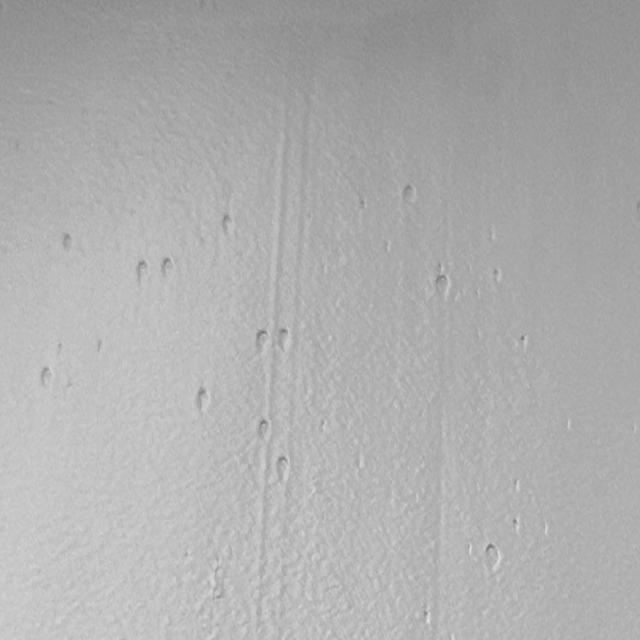pin holes: (482, 543, 504, 574), (192, 387, 213, 416), (275, 326, 296, 354), (35, 365, 55, 393), (400, 184, 421, 209), (432, 272, 452, 298), (158, 255, 178, 281), (217, 214, 236, 241), (250, 327, 269, 354), (58, 231, 78, 256), (132, 258, 150, 285), (254, 419, 272, 445), (275, 458, 294, 482), (516, 332, 534, 354), (418, 606, 432, 628), (492, 267, 506, 285), (510, 516, 524, 534), (94, 337, 106, 357), (358, 196, 370, 212), (381, 240, 393, 256), (316, 418, 328, 434), (512, 477, 523, 494)
